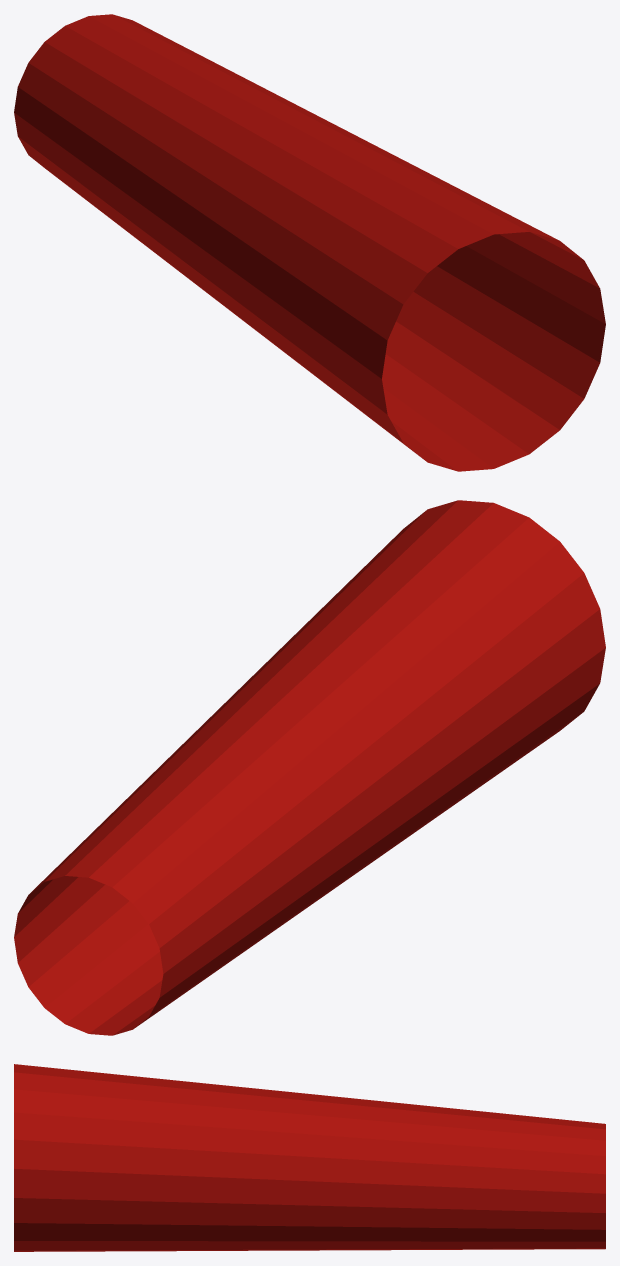
File: Vessel_scale50_to_25_inside.fbx
3 renders of one model, top to bottom at view 1: azimuth 30°, elevation 25°; view 2: azimuth 150°, elevation 25°; view 3: azimuth 270°, elevation 25°, orthographic. The views are drawn at different scales.
Parts seen in each view (by area): view 1: Vessel_scale50_to_25; view 2: Vessel_scale50_to_25; view 3: Vessel_scale50_to_25.
Boxes of the visible parts, x1=… form: Vessel_scale50_to_25: x1=14, y1=14, x2=605, y2=471; Vessel_scale50_to_25: x1=14, y1=500, x2=605, y2=1035; Vessel_scale50_to_25: x1=14, y1=1064, x2=605, y2=1251.
Bounding box in the file's own units: 4.26 × 4.26 × 13.33.
